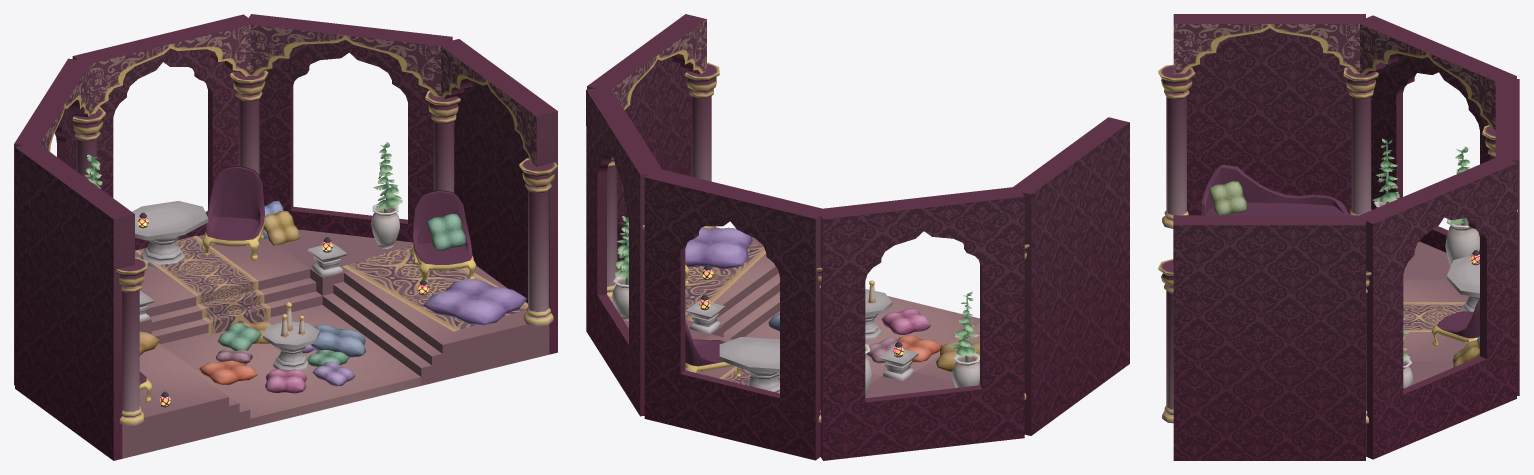
File: arabian_lounge.glb
3 views of the same model, side by side, from view 1: azimuth 30°, elevation 25°; view 2: azimuth 150°, elevation 25°; view 3: azimuth 270°, elevation 25° (orthographic). The views are drawn at different scales.
Visible parts, largest first — view 1: WallL1, WallR1, WallR2, Wall, StairsR, Floor, StairsL, StairsB, StairsB1, WallL2, Chair1, StairsB2 (+20 smaller); view 2: WallL2, Wall, WallL1, WallR2, WallR1, StairsR, Floor, Pillar6, Table2, Pillow11, StairsB2, Pillar5 (+12 smaller); view 3: WallR1, WallL1, WallR2, WallL2, Pillar1, Sofa, Pillar2, StairsB, Wall, Pillar6, StairsB1, CornerL (+7 smaller).
Boxes of the visible parts, x1=… form: WallL1: x1=15, y1=142, x2=134, y2=460; WallR1: x1=438, y1=39, x2=557, y2=354; WallR2: x1=245, y1=14, x2=452, y2=242; Wall: x1=72, y1=14, x2=255, y2=251; StairsR: x1=322, y1=265, x2=549, y2=385; Floor: x1=161, y1=305, x2=421, y2=427; StairsL: x1=122, y1=331, x2=250, y2=458; StairsB: x1=135, y1=235, x2=322, y2=343; StairsB1: x1=135, y1=235, x2=270, y2=334; WallL2: x1=14, y1=58, x2=91, y2=385; Chair1: x1=202, y1=166, x2=265, y2=260; StairsB2: x1=342, y1=244, x2=527, y2=331; WallL2: x1=818, y1=186, x2=1024, y2=460; Wall: x1=644, y1=168, x2=827, y2=460; WallL1: x1=1010, y1=117, x2=1129, y2=435; WallR2: x1=586, y1=88, x2=663, y2=416; WallR1: x1=587, y1=14, x2=706, y2=223; StairsR: x1=713, y1=227, x2=779, y2=339; Floor: x1=745, y1=296, x2=979, y2=375; Pillar6: x1=684, y1=62, x2=719, y2=229; Table2: x1=719, y1=337, x2=779, y2=393; Pillow11: x1=685, y1=227, x2=752, y2=268; StairsB2: x1=610, y1=244, x2=765, y2=321; Pillar5: x1=607, y1=158, x2=617, y2=298; WallR1: x1=1173, y1=215, x2=1365, y2=460; WallL1: x1=1173, y1=14, x2=1365, y2=215; WallR2: x1=1357, y1=158, x2=1516, y2=459; WallL2: x1=1357, y1=15, x2=1516, y2=254; Pillar1: x1=1158, y1=64, x2=1195, y2=228; Sofa: x1=1201, y1=165, x2=1349, y2=215; Pillar2: x1=1343, y1=67, x2=1378, y2=215; StairsB: x1=1403, y1=279, x2=1468, y2=360; Wall: x1=1495, y1=79, x2=1519, y2=395; Pillar6: x1=1158, y1=259, x2=1173, y2=423; StairsB1: x1=1403, y1=302, x2=1465, y2=331; CornerL: x1=1403, y1=241, x2=1450, y2=279.
Size of the model in its own units: 1040 by 540 by 752.
Materials: 7 (7 with a texture image).
